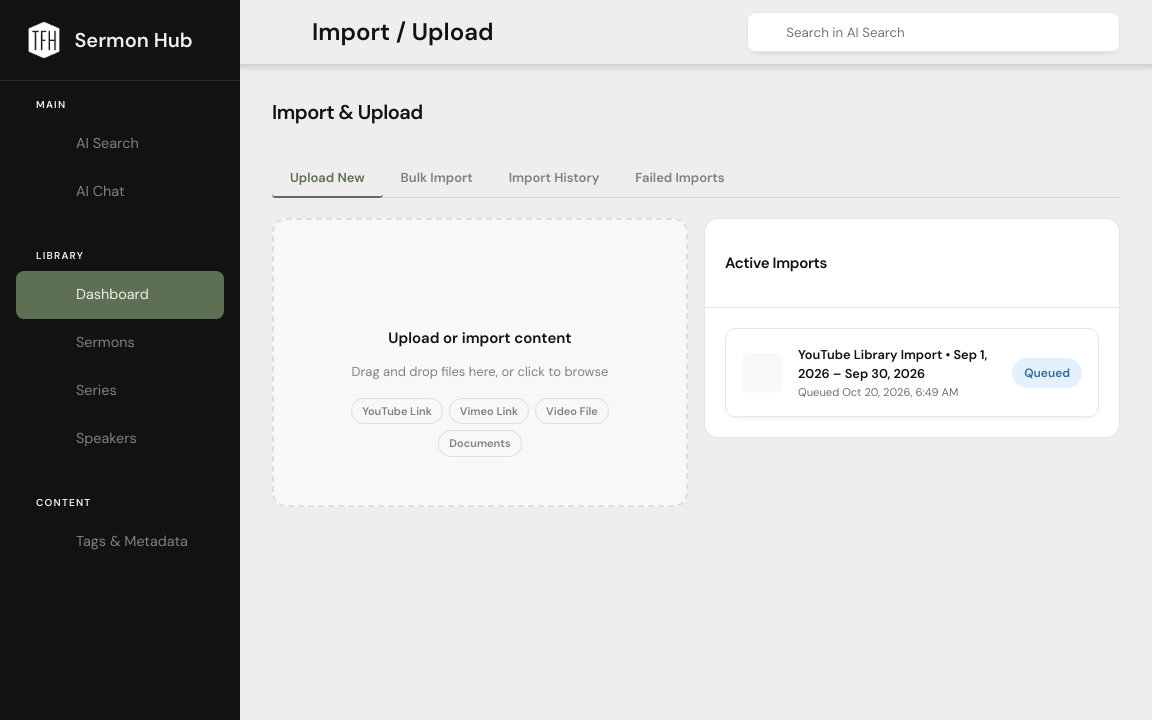
it: restores a queued run on load and locks the sync form
The width and height of the screenshot is (1152, 720).
expect the heading "YouTube Library Import • Sep 1, 2026 – Sep 30, 2026" is shown: met, box [798,345,996,384]
expect the text "Queued" is shown: met, box [1012,358,1082,388]
Click the button "Bulk Import" at (437, 179), box [383,159,491,198]
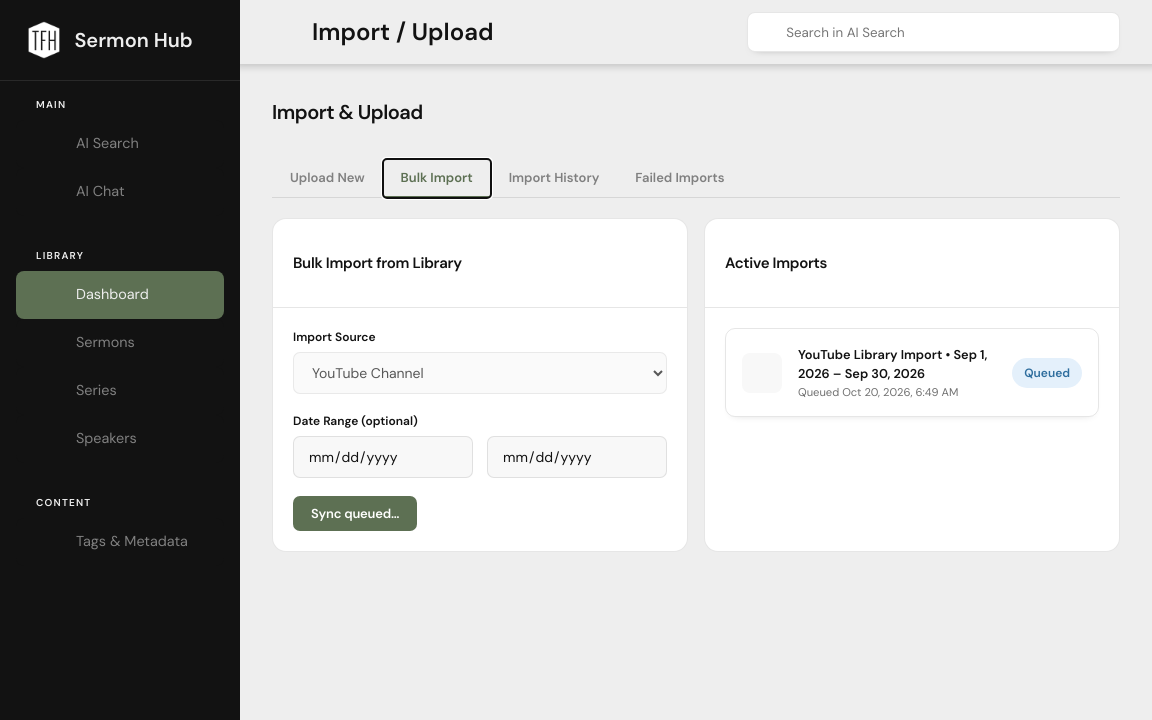
expect the button "Sync queued…" is disabled: met, box [293,496,417,531]
expect the date field named "From date" is disabled: met, box [293,436,473,478]
expect the date field named "To date" is disabled: met, box [487,436,667,478]
